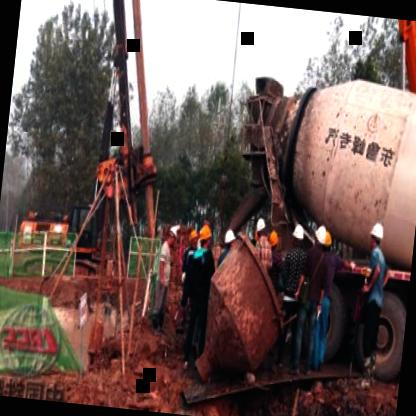helmet: (366, 216, 386, 256), (196, 224, 215, 258), (312, 222, 329, 253), (265, 228, 280, 259), (288, 223, 304, 252), (320, 233, 336, 260), (162, 224, 178, 251), (221, 226, 235, 256), (253, 215, 267, 243)
